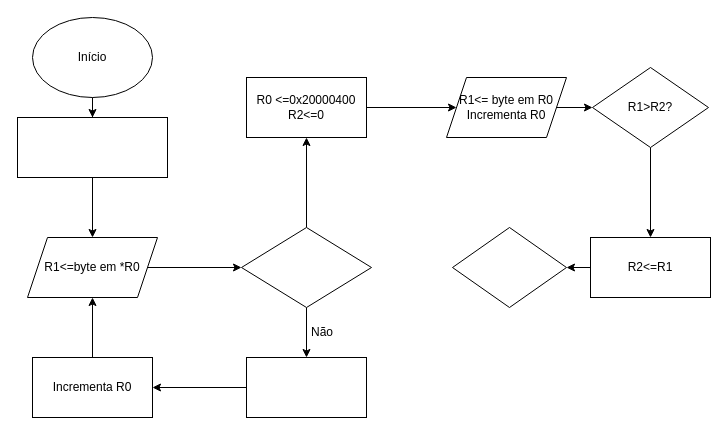
Image size: 728x435. Some labels were removed from this diagram. Here are the shapes that lost their labels. From the top down, the centre of each, then its label:
At [92,147]: "R0 <= STRING addr vetor_ini <= 0x200003BF maior_occ <= 0x20000500".
At [306,267]: "R1=0?".
At [509,267]: "R0>0x2000045A".
At [306,387]: "Incrementa endereço vetor_ini+R1".
